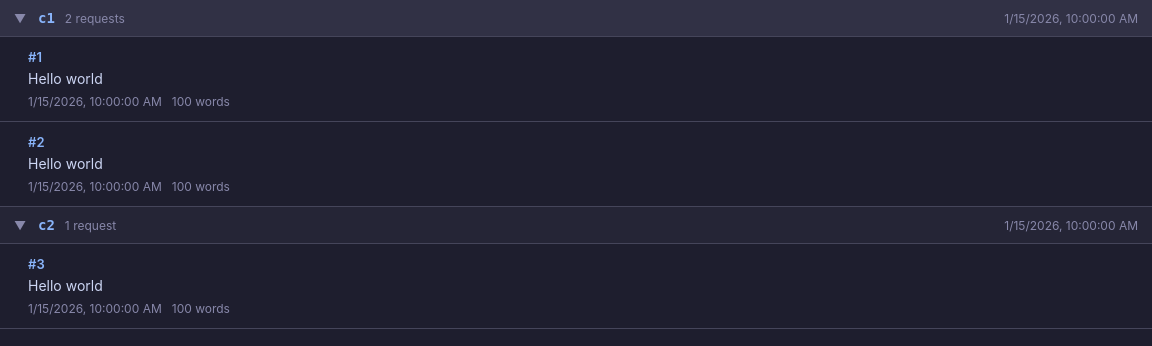
RequestList — collapse toggle › clicking the toggle collapses the conversation's segments
Expected: the number of elements with class "request-item" is 3, 0,37 -> 1151,122; 0,122 -> 1151,207; 0,244 -> 1151,329
Click the text with class "conv-toggle" next to "c1" at (21, 18), box 14,10 -> 28,26
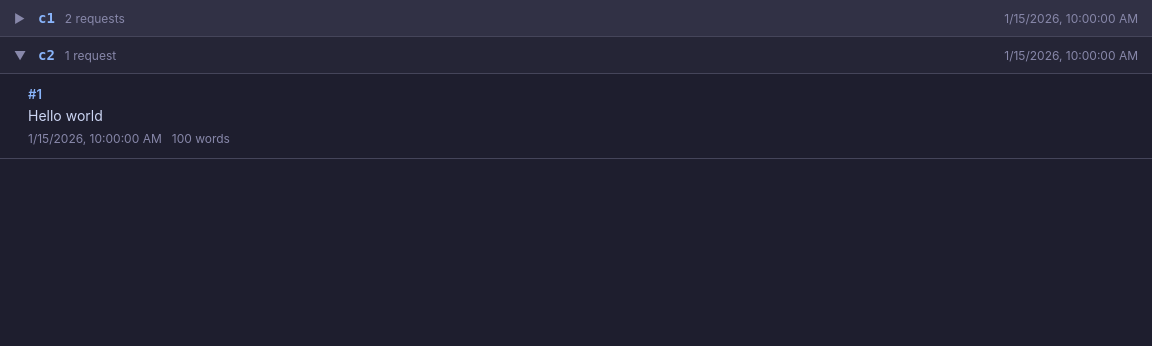
Expected: the number of elements with class "request-item" is 1, 0,74 -> 1151,159
